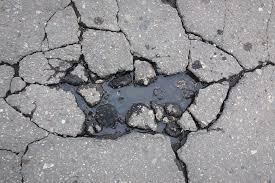alligator-crack: (25, 0, 226, 57), (3, 59, 71, 146), (208, 60, 260, 129)
pothole: (78, 66, 201, 145)
